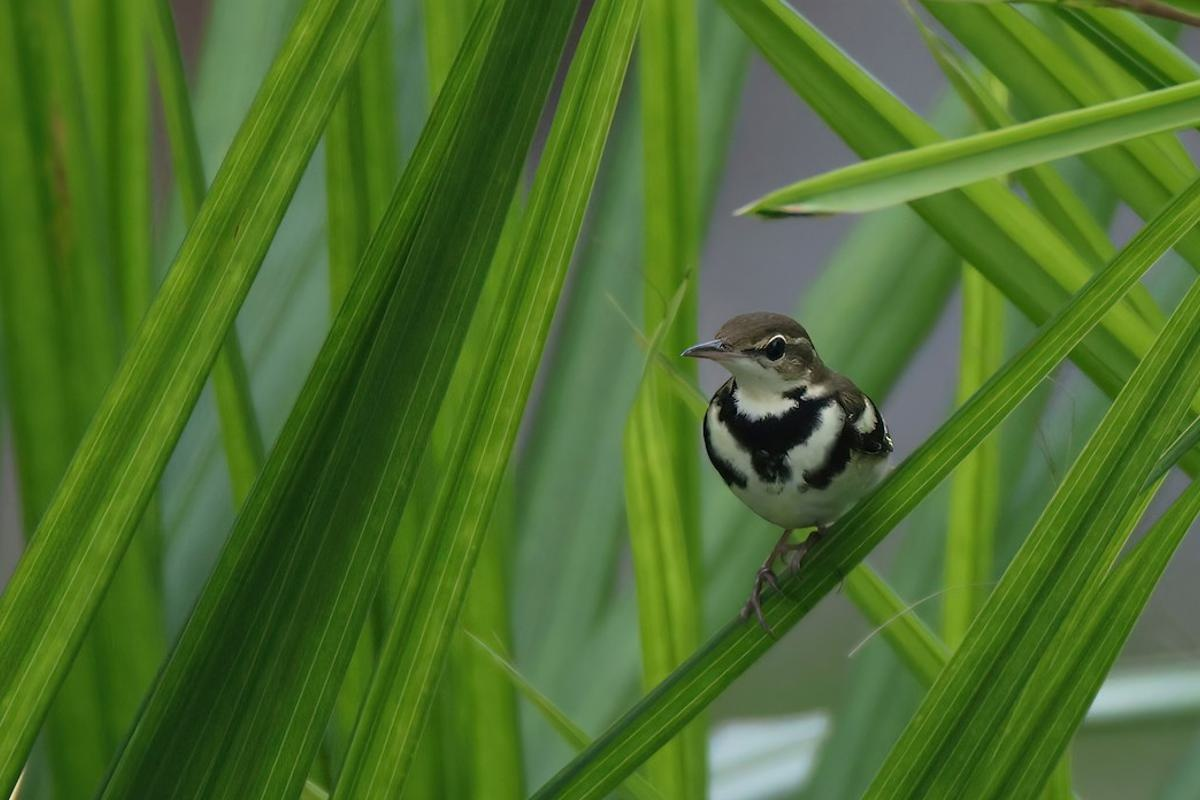wagtail: (673, 283, 928, 585)
